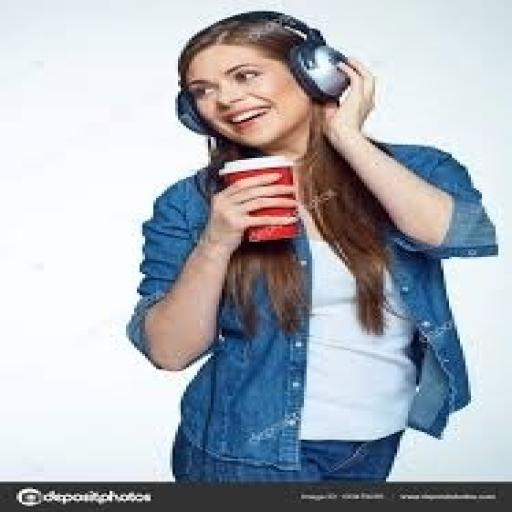listening_to_music: (123, 8, 501, 485)
